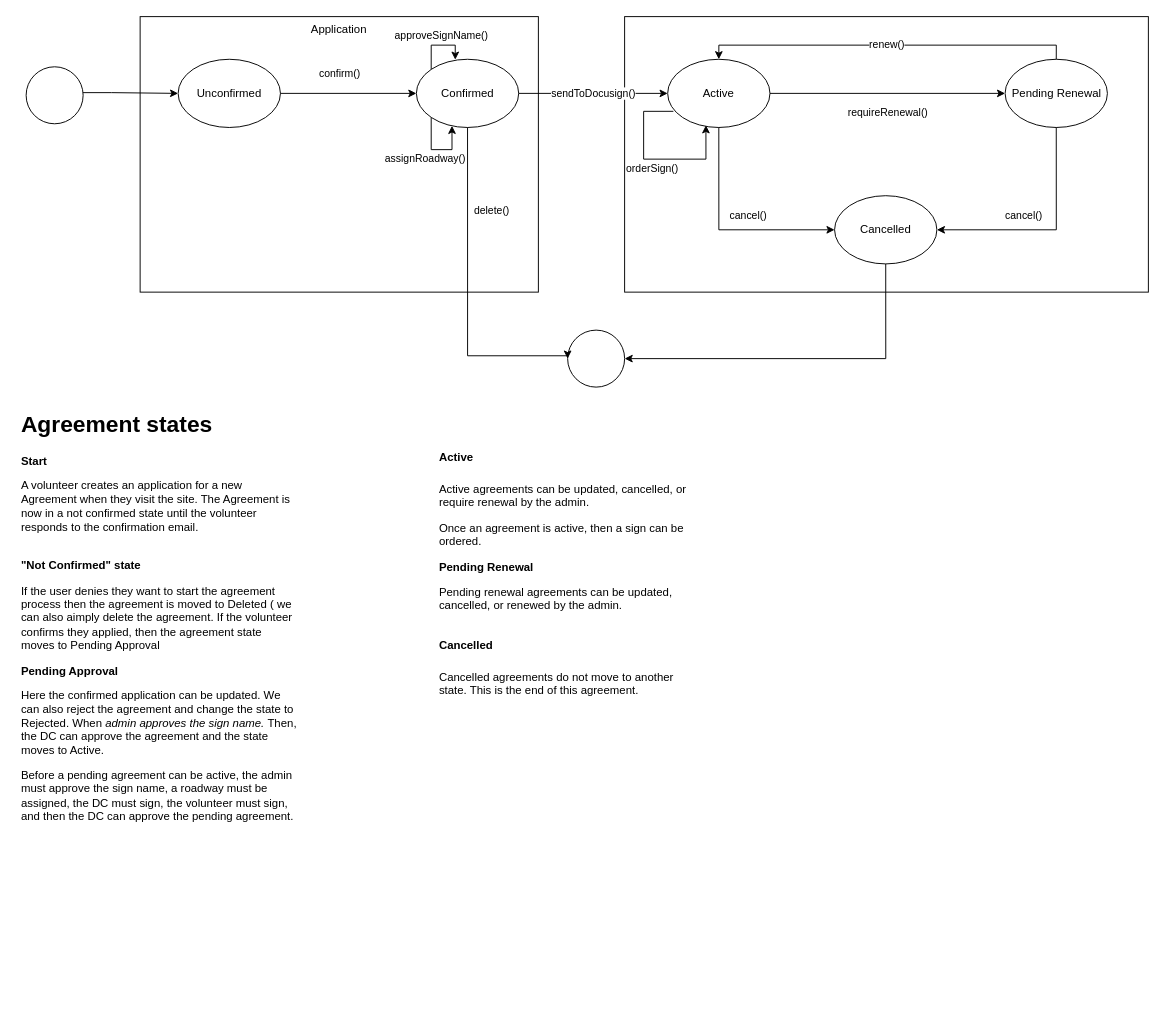
This 1165x1031 diagram has some shape labels left out. Here are the shapes that lost their labels. From the top down, the box of each, then its label:
(25, 66, 83, 124): start
(624, 16, 1148, 292): Agreement
(567, 329, 625, 387): end
